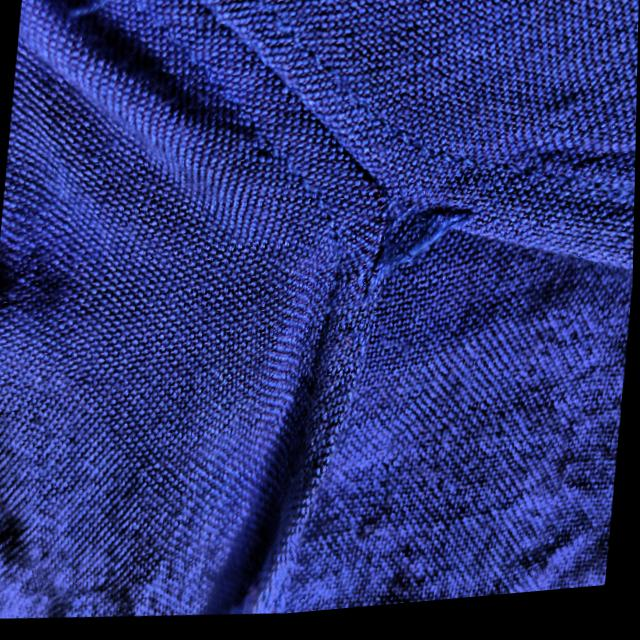Stitch: (315, 182, 539, 331), (46, 0, 131, 40)
